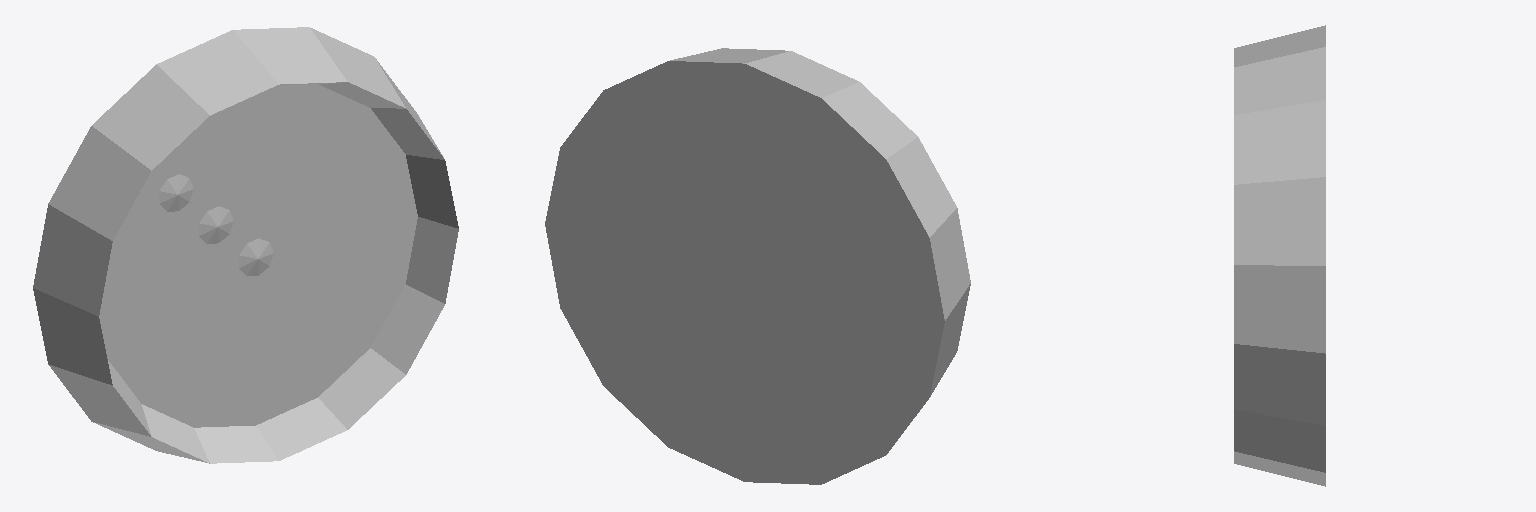
File: obj_interactive_compass_test1.obj
3 views of the same model, side by side, from view 1: azimuth 30°, elevation 25°; view 2: azimuth 150°, elevation 25°; view 3: azimuth 270°, elevation 25° (orthographic).
Visible parts, largest first — view 1: Cylinder1.001; view 2: Cylinder1.001; view 3: Cylinder1.001.
Part boxes in pixels (x1,y1,x2,y2): Cylinder1.001: (33, 27, 458, 463); Cylinder1.001: (545, 48, 970, 484); Cylinder1.001: (1234, 25, 1325, 486).
Size of the model in its own units: 1 by 1 by 0.2.